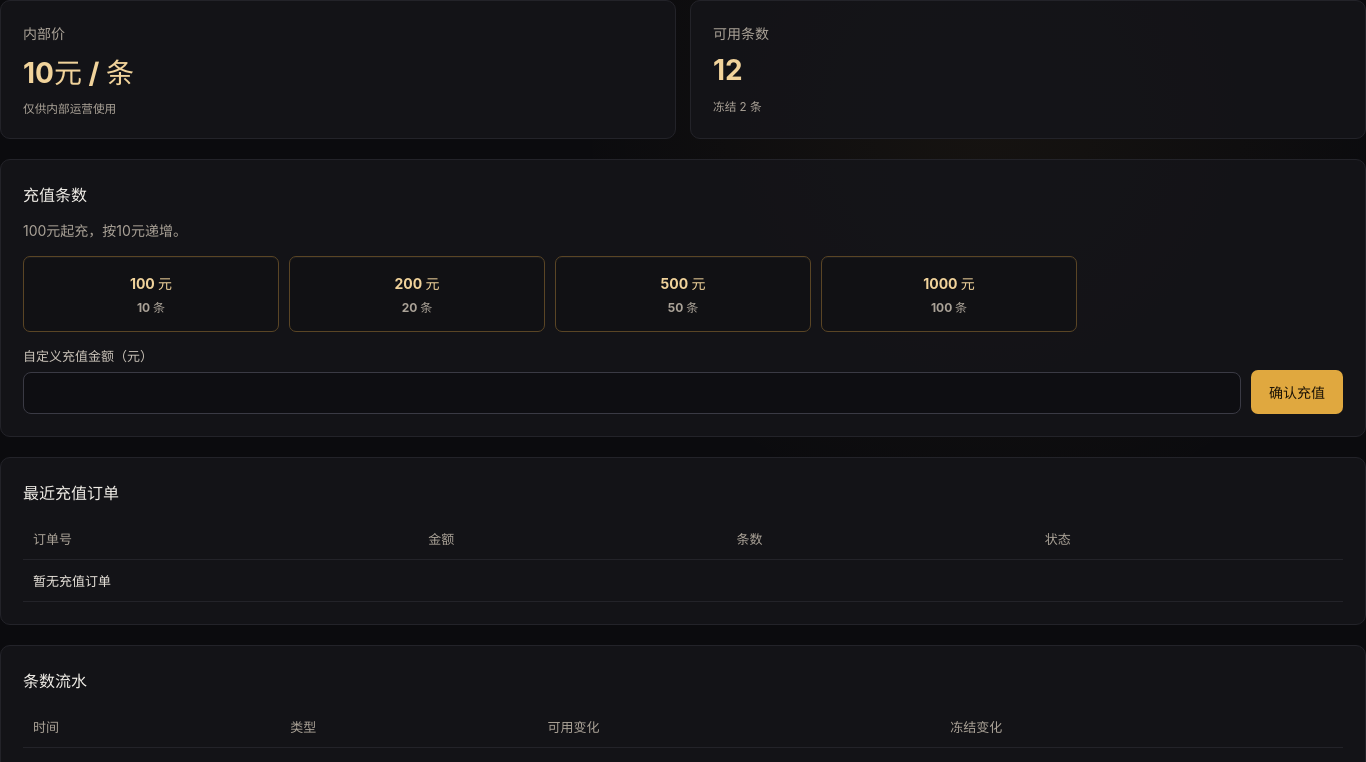
it: WalletPanel › rejects a custom amount that is not an integer 10-yuan step
Expected: the text "10元 / 条" is shown, 23,56 -> 134,90
Step 1. Type "101" into the number field labelled "自定义充值金额（元）" → (632, 393), box 23,372 -> 1241,414
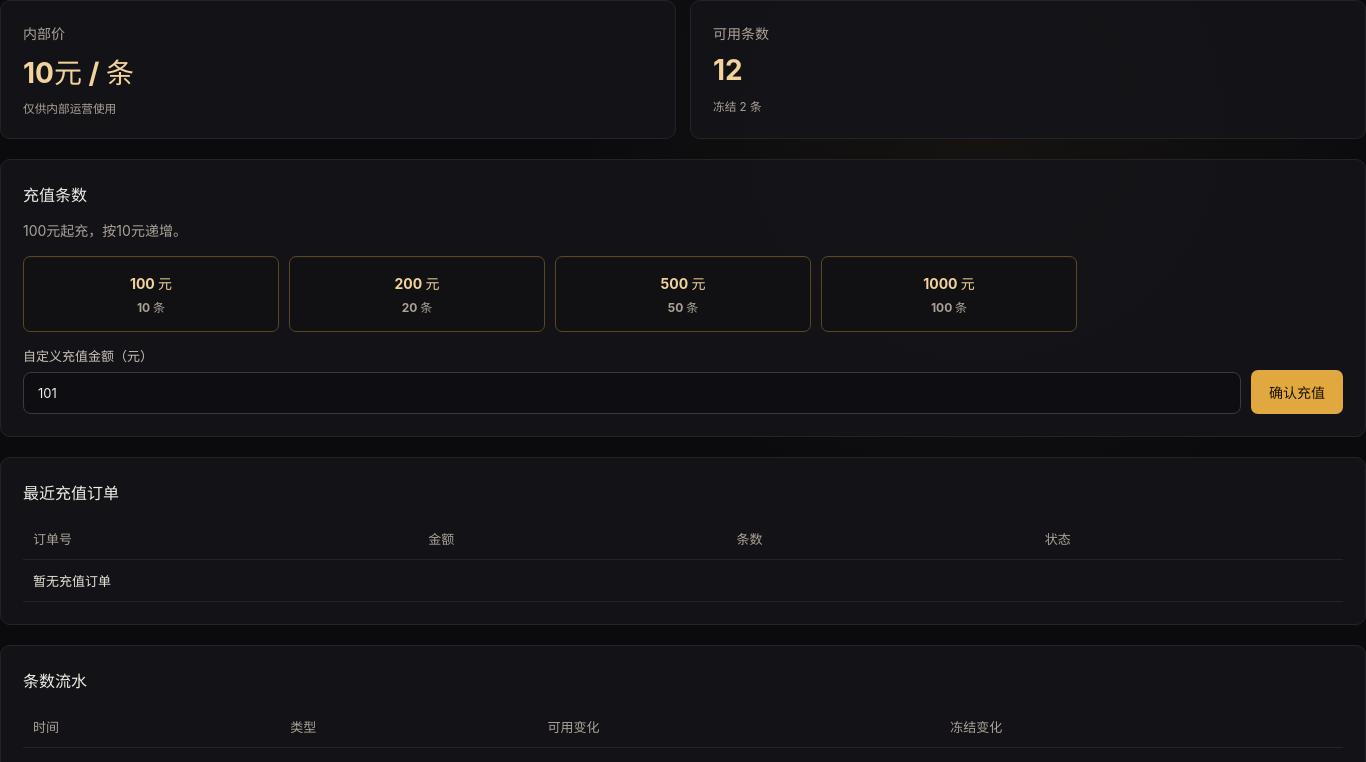
Step 2. Click the button "确认充值" → (1297, 392), box 1251,370 -> 1343,414
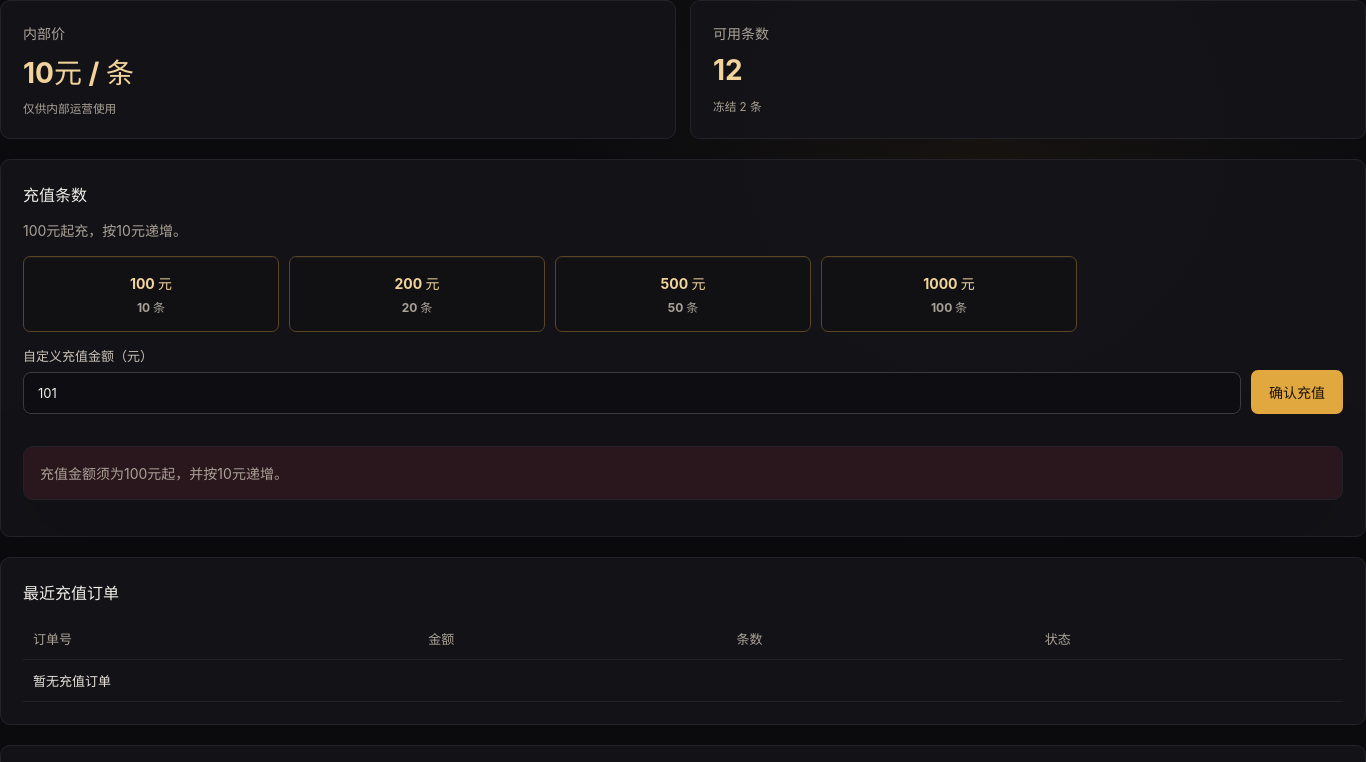
Expected: the text "充值金额须为100元起，并按10元递增。" is shown, 23,446 -> 1343,500
